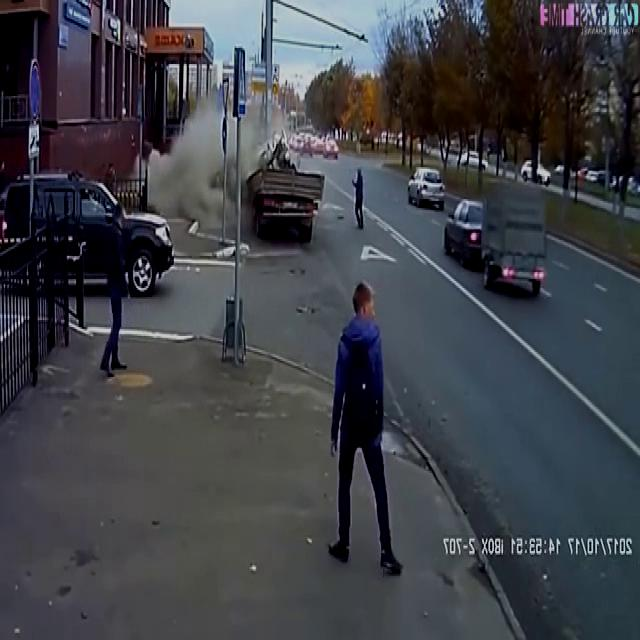accident: (172, 132, 328, 245)
non-accident: (444, 184, 550, 300), (289, 133, 339, 159)
